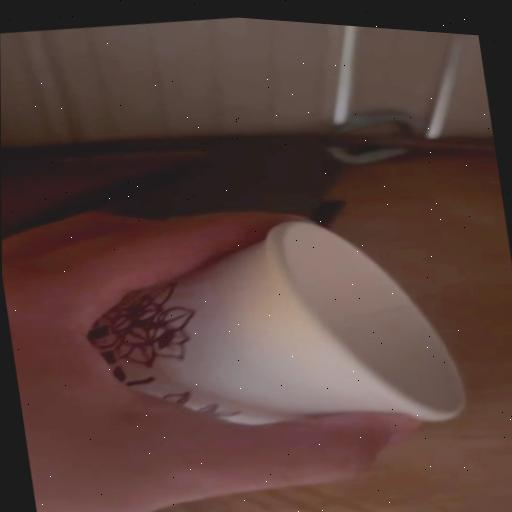Ly_giay: (92, 222, 464, 423)
